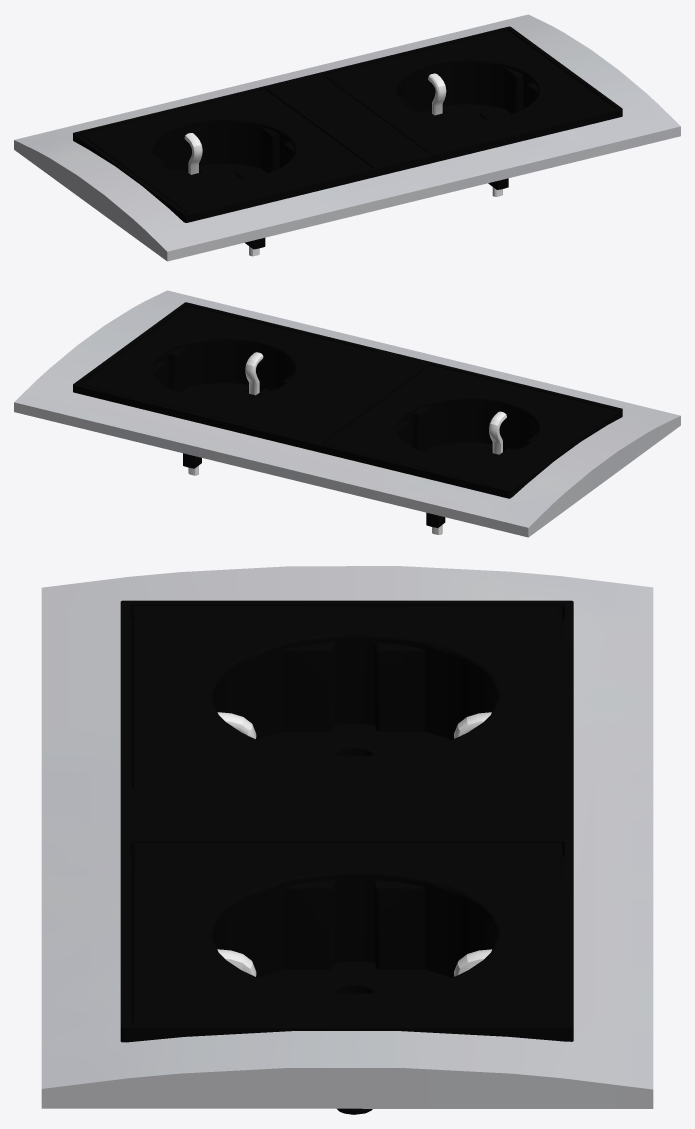
File: SM_Socket_015.obj
3 renders of one model, top to bottom at view 1: azimuth 30°, elevation 25°; view 2: azimuth 150°, elevation 25°; view 3: azimuth 270°, elevation 25°, orthographic. The views are drawn at different scales.
Visible parts, largest first — view 1: SM_Socket_015; view 2: SM_Socket_015; view 3: SM_Socket_015.
Boxes of the visible parts, x1,y1,x2,y2 form: SM_Socket_015: (14, 14, 680, 261); SM_Socket_015: (14, 290, 680, 537); SM_Socket_015: (41, 566, 653, 1114).
Bounding box in the file's own units: 0.1622 × 0.0251 × 0.0835.
3 materials, 2 textured.
